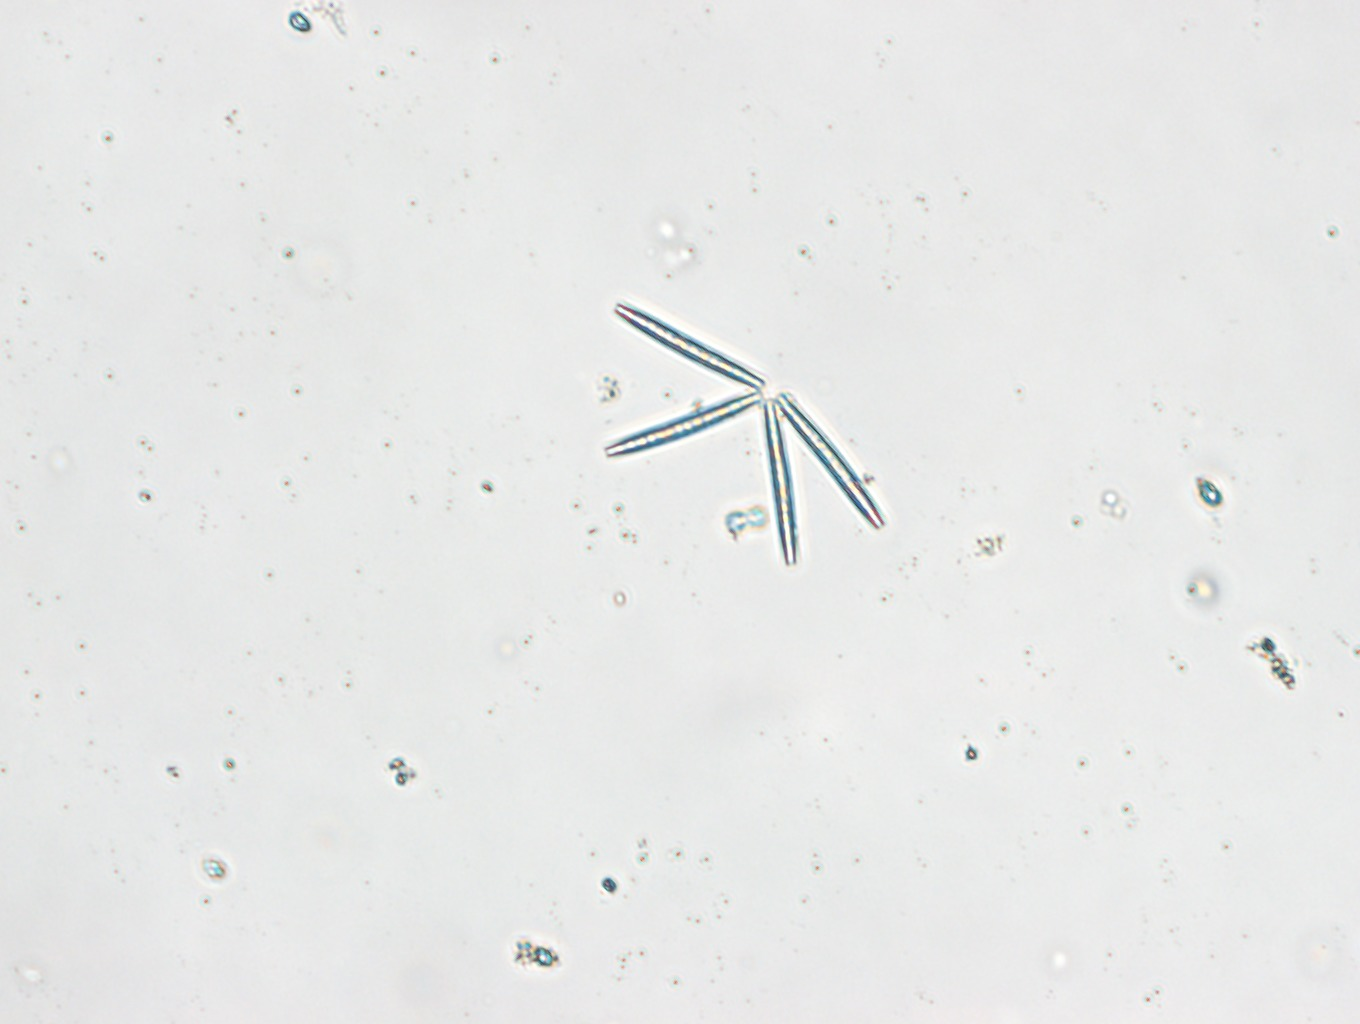thalassionema nitzschioides: (603, 299, 886, 564)
